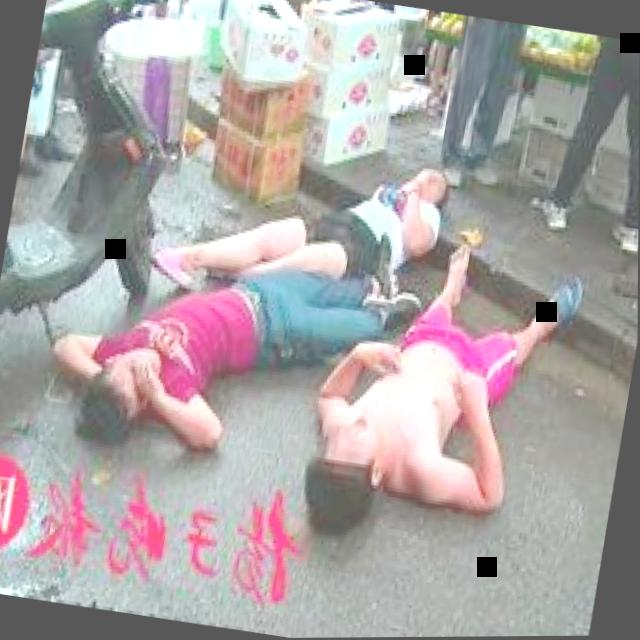Fall-Detected: (162, 103, 475, 315)
